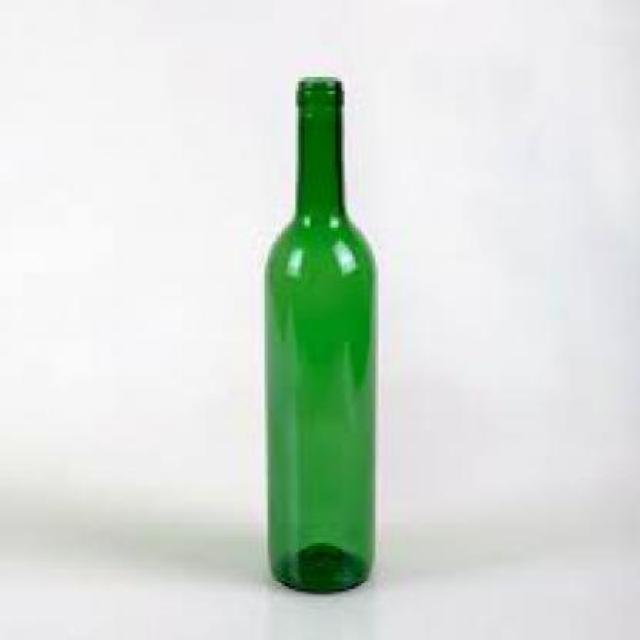kaca: (262, 74, 376, 592)
